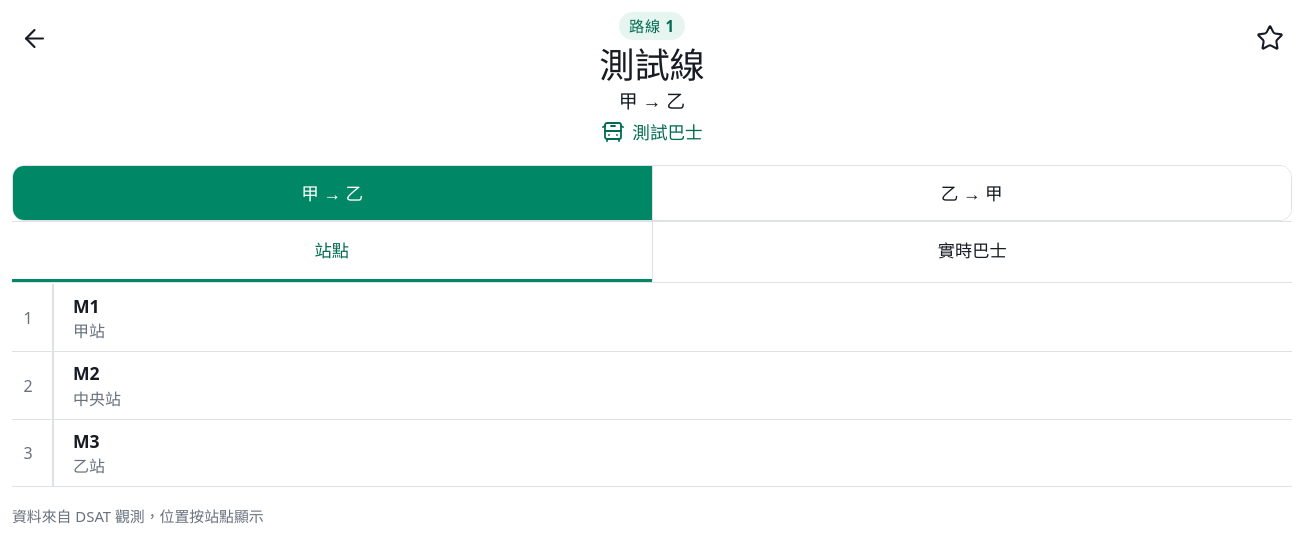
RoutePage › renders loading, error and stale age states without crashing the route page
The width and height of the screenshot is (1304, 541).
Later steps or results of the test are not shown.
Click the tab "實時巴士". click: coordinates (972, 252)
box: x1=652 y1=222 x2=1292 y2=282
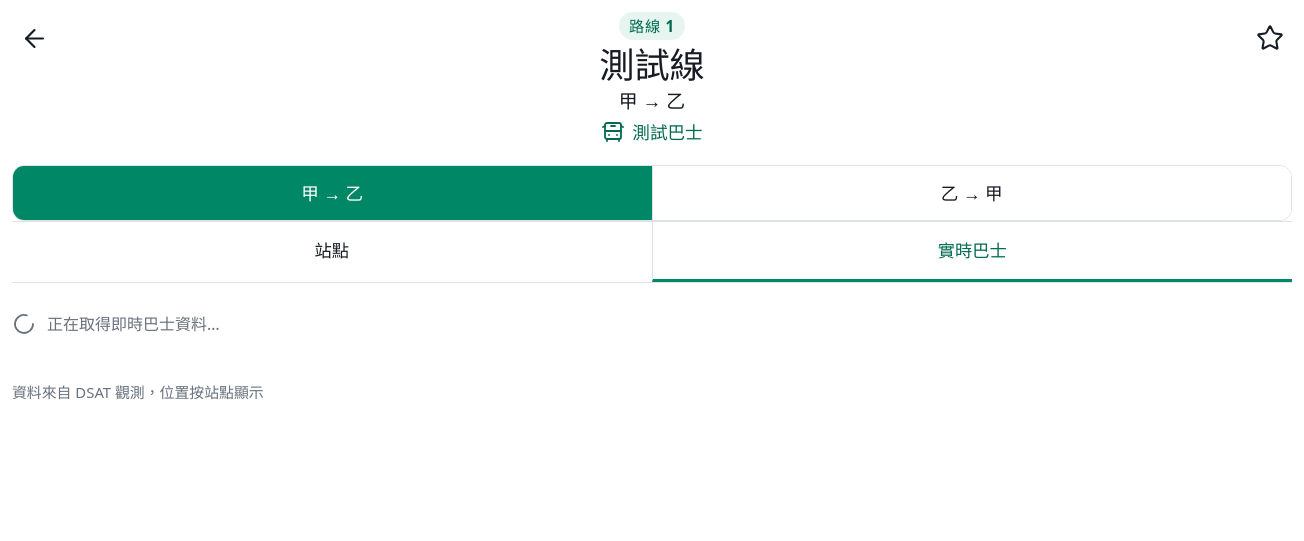
Check: the text "正在取得即時巴士資料…" is shown, box x1=47 y1=313 x2=220 y2=335
